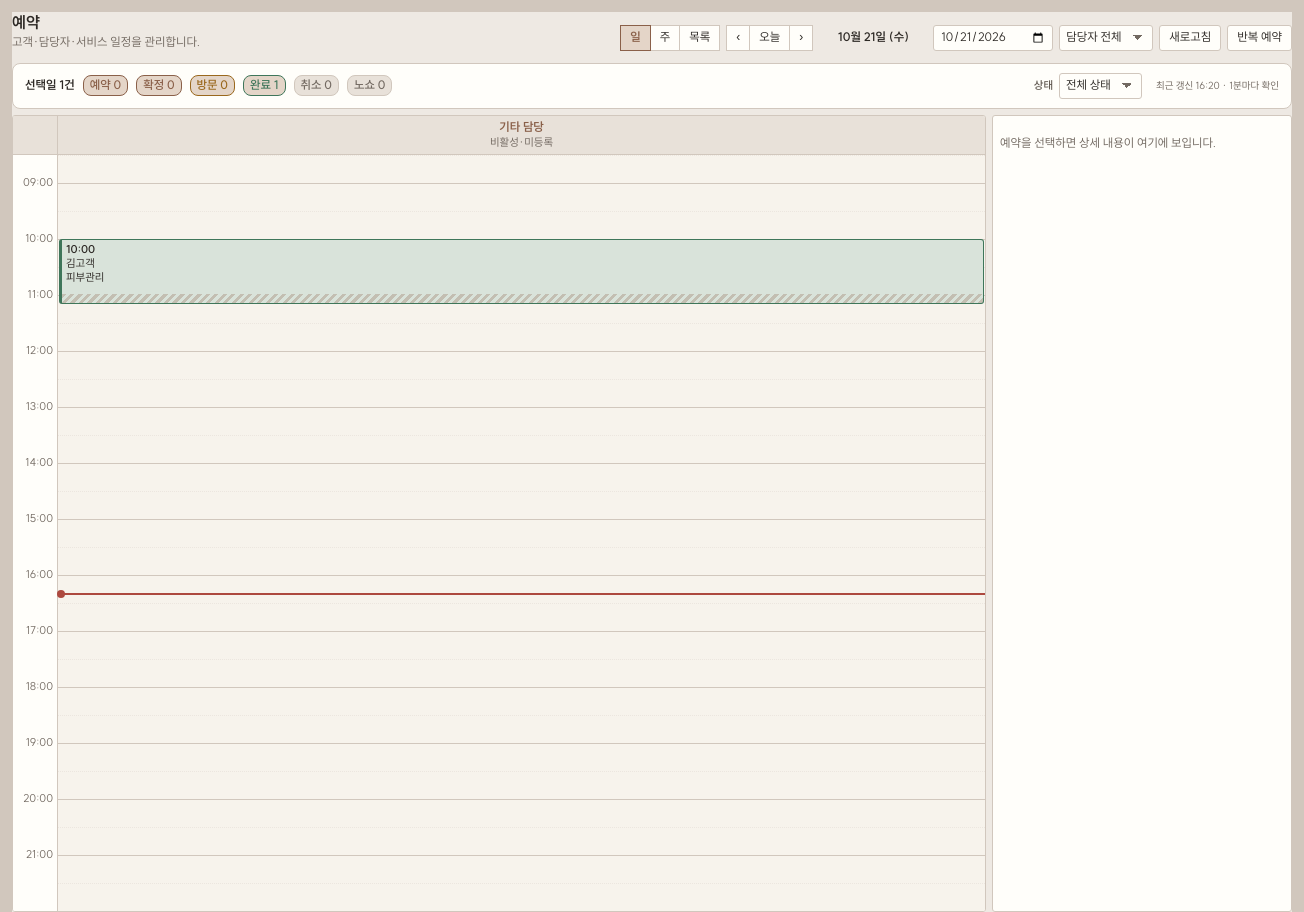
Test case: 중지된 담당자의 기존 예약 상세에서도 이름을 보존한다
(page scrolled)
Click the button "10:00 김고객 피부관리".
click(85, 277)  # box [59, 239, 984, 304]
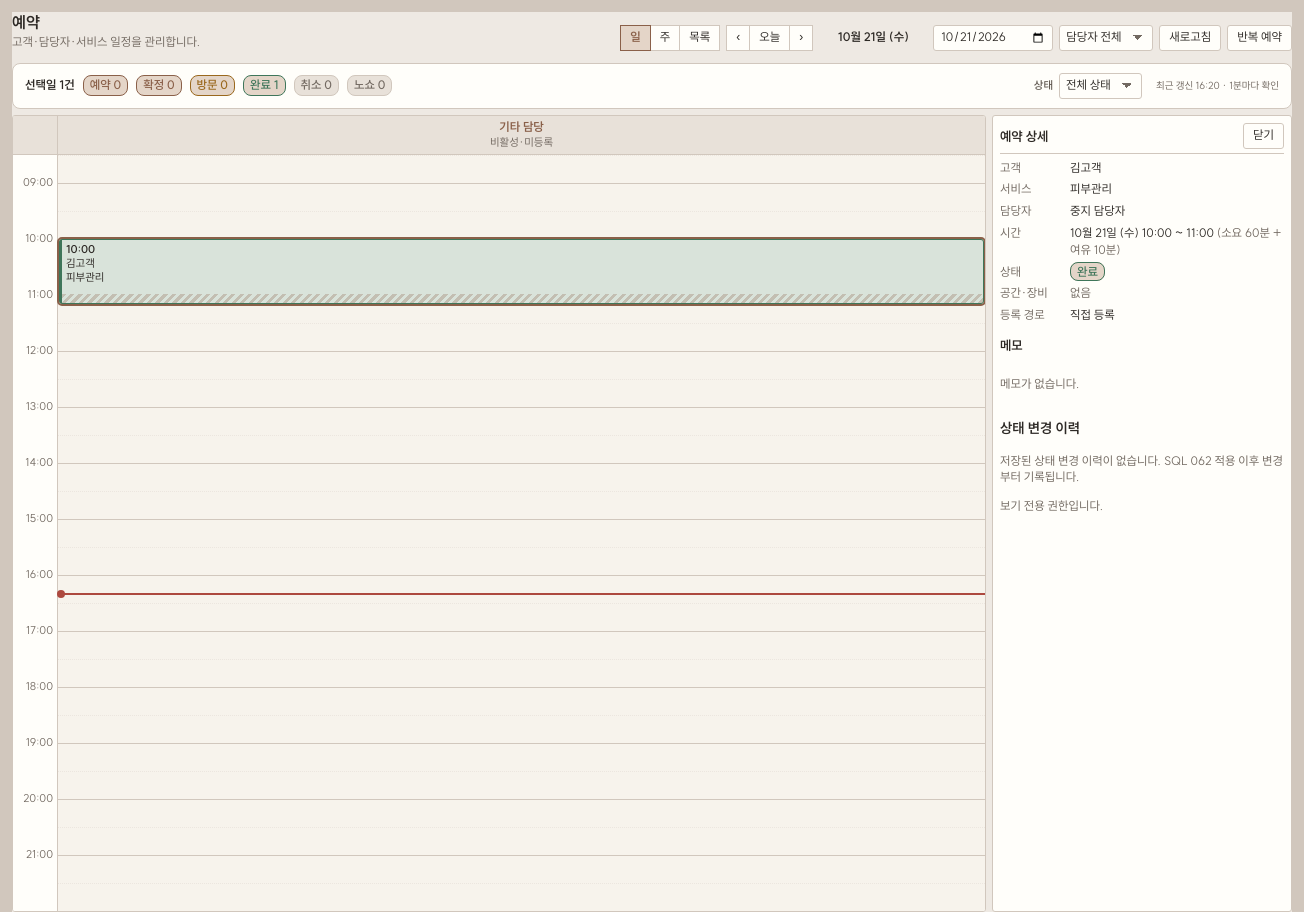
Now the text "중지 담당자" is shown, box [1070, 203, 1125, 218]
